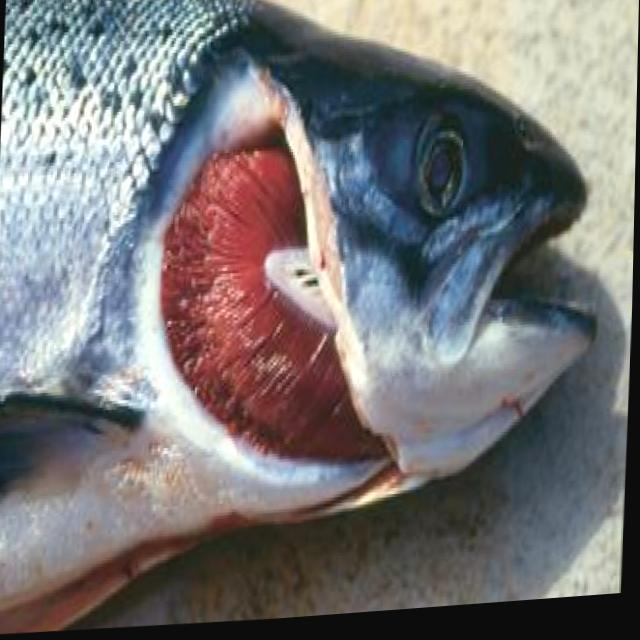Gill Disease: (105, 4, 548, 575)
